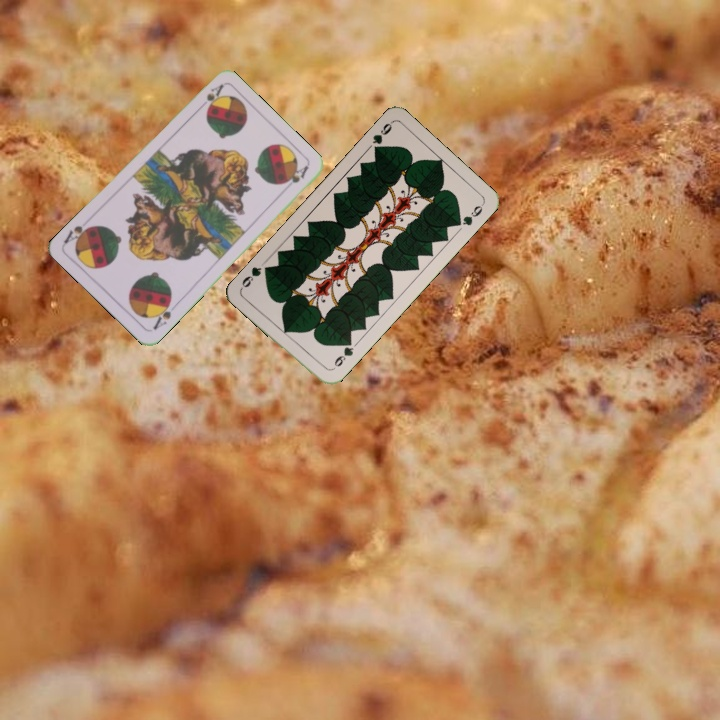G9: (327, 336, 356, 373), (368, 118, 395, 156)
SA: (193, 81, 226, 113), (149, 296, 174, 332)
